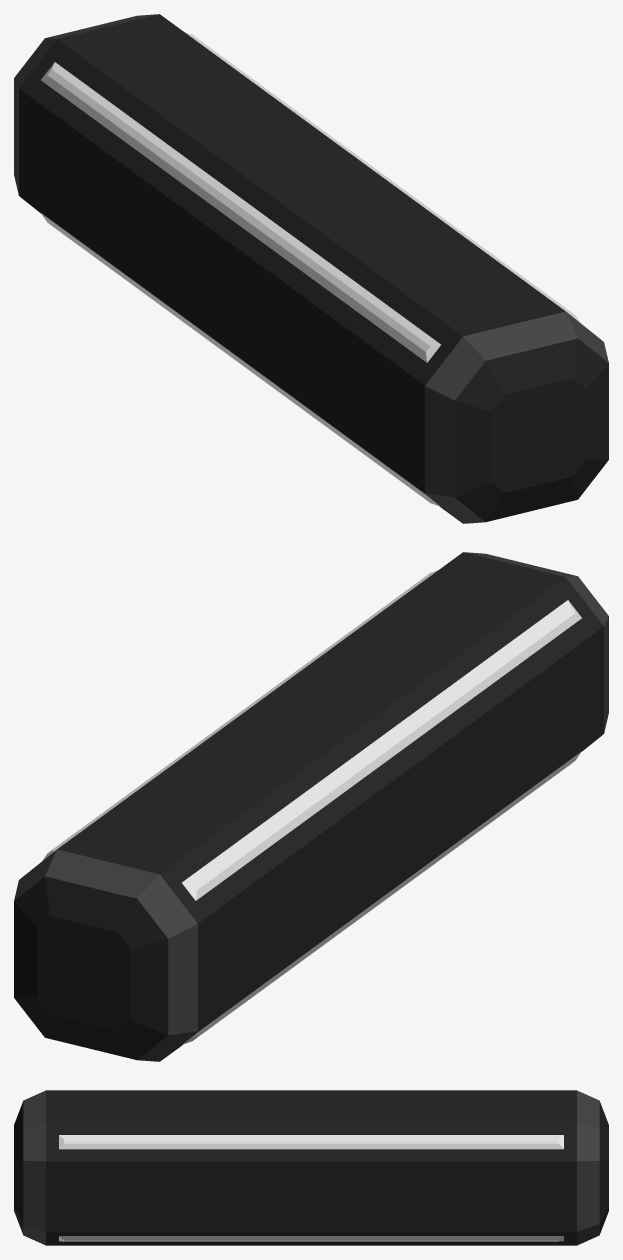
File: FluidTank.fbx
The picture shows the model from 3 angles, top to bottom: view 1: azimuth 30°, elevation 25°; view 2: azimuth 150°, elevation 25°; view 3: azimuth 270°, elevation 25°; orthographic projection. The views are drawn at different scales.
Visible parts, largest first — view 1: FluidTank; view 2: FluidTank; view 3: FluidTank.
Part boxes in pixels (left/top/right/bottom): FluidTank: left=14, top=14, right=608, bottom=523; FluidTank: left=14, top=552, right=608, bottom=1061; FluidTank: left=14, top=1090, right=608, bottom=1245.
Size of the model in its own units: 223 by 223 by 981.
